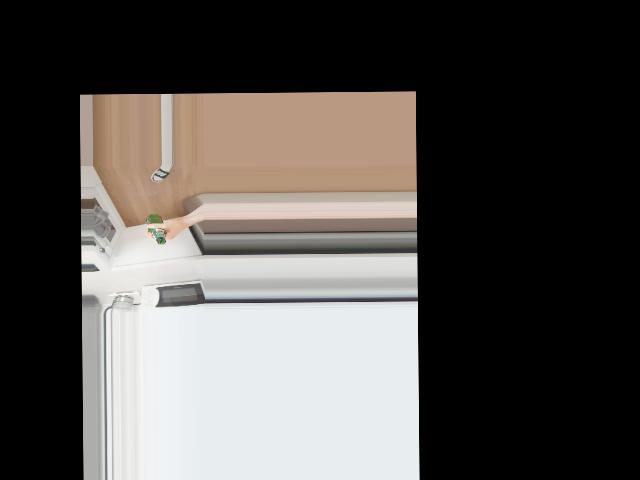beer: (146, 213, 166, 244)
